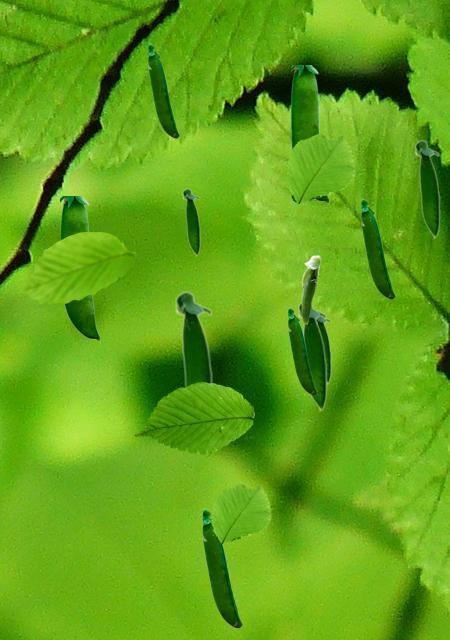pea: (60, 196, 99, 341), (291, 65, 328, 203), (201, 508, 241, 627), (174, 290, 212, 386), (360, 198, 394, 298), (297, 302, 326, 412), (147, 43, 178, 137), (287, 307, 316, 394), (414, 139, 439, 239), (301, 255, 320, 323), (182, 188, 199, 256), (317, 310, 330, 384)
